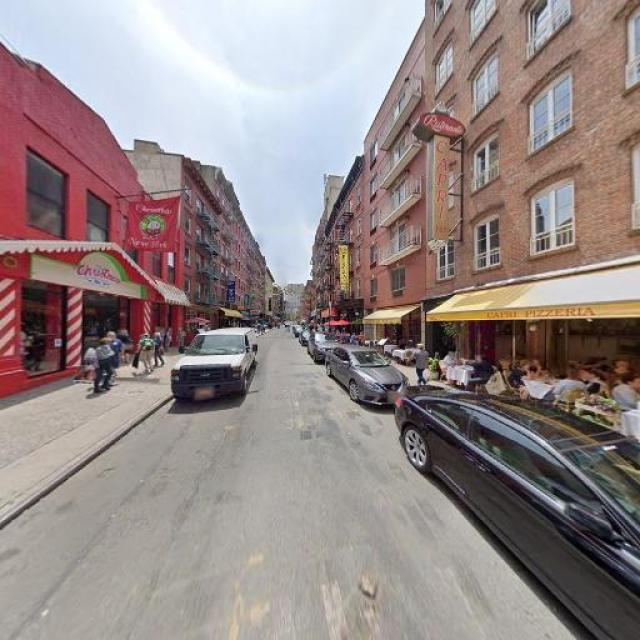Building: (430, 1, 640, 427), (1, 59, 155, 404), (365, 32, 428, 360)
